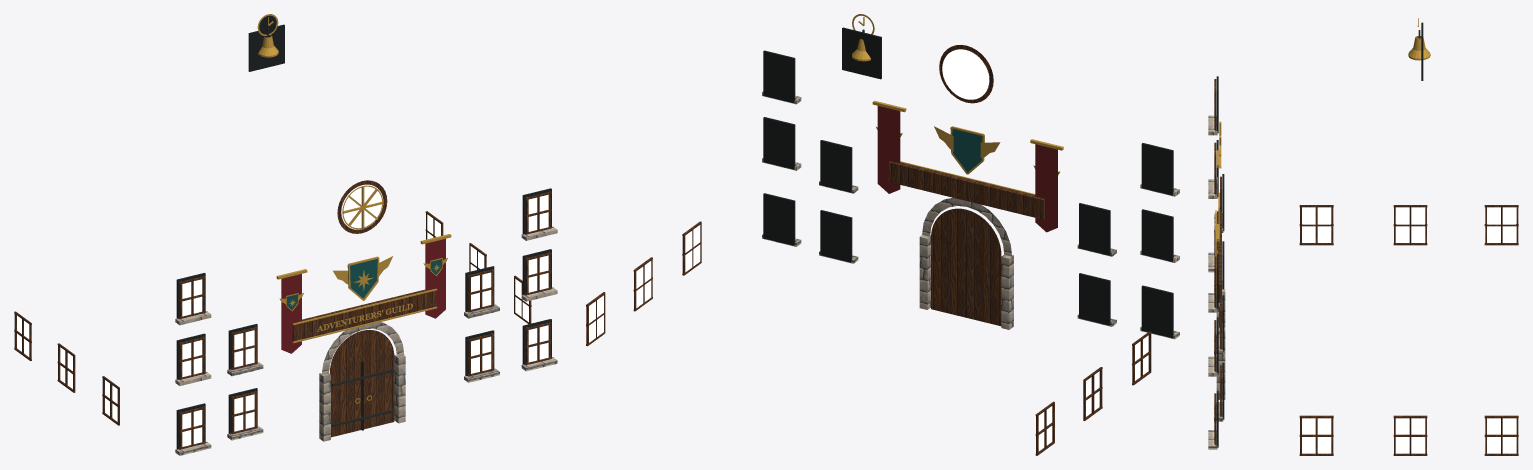
Rendered from SM_GuildHall_Ornaments.fbx.
3 views of the same model, side by side, from view 1: azimuth 30°, elevation 25°; view 2: azimuth 150°, elevation 25°; view 3: azimuth 270°, elevation 25° (orthographic). The views are drawn at different scales.
Visible parts, largest first — view 1: ArchedDoubleDoor, GuildSign_1, HangingBanner, HangingBanner.001, RoseGlass, BellOpening_1, GuildCrest_Shield, TowerWindow_Glow_1.001, TowerWindow_Glow_1.003, WingWindow_Glow_1, TowerWindow_Glow_1.005, WingWindow_Glow_1.001 (+5 smaller); view 2: ArchedDoubleDoor, GuildSign_3, RoseGlass, HangingBanner.001, HangingBanner, TowerWindow_Recess_3.001, TowerWindow_Recess_3.002, TowerWindow_Recess_3, BellOpening_3, TowerWindow_Recess_3.005, WingWindow_Recess_3.001, TowerWindow_Recess_3.004 (+7 smaller); view 3: SideWindow.001, SideWindow, SideWindow.002, SideWindow.004, SideWindow.003, SideWindow.005, DoorJamb_2.001.
Part boxes in pixels (x1,y1,x2,y2): ArchedDoubleDoor: (330, 330, 394, 437); GuildSign_1: (293, 290, 435, 341); HangingBanner: (281, 274, 301, 353); HangingBanner.001: (425, 238, 445, 318); RoseGlass: (341, 184, 383, 229); BellOpening_1: (249, 25, 284, 71); GuildCrest_Shield: (350, 259, 376, 298); TowerWindow_Glow_1.001: (182, 340, 202, 377); TowerWindow_Glow_1.003: (528, 325, 548, 362); WingWindow_Glow_1: (234, 394, 254, 431); TowerWindow_Glow_1.005: (528, 194, 548, 231); WingWindow_Glow_1.001: (234, 330, 254, 367); ArchedDoubleDoor: (931, 208, 1001, 326); GuildSign_3: (888, 162, 1043, 219); RoseGlass: (942, 49, 989, 99); HangingBanner.001: (877, 106, 900, 193); HangingBanner: (1035, 144, 1057, 232); TowerWindow_Recess_3.001: (1141, 210, 1172, 261); TowerWindow_Recess_3.002: (1141, 143, 1172, 195); TowerWindow_Recess_3: (1141, 286, 1172, 338); BellOpening_3: (842, 28, 880, 79); TowerWindow_Recess_3.005: (763, 51, 793, 102); WingWindow_Recess_3.001: (1079, 204, 1109, 255); TowerWindow_Recess_3.004: (763, 117, 793, 169); SideWindow.001: (1396, 207, 1424, 242); SideWindow: (1302, 207, 1330, 242); SideWindow.002: (1487, 207, 1515, 242); SideWindow.004: (1396, 418, 1424, 453); SideWindow.003: (1302, 418, 1330, 453); SideWindow.005: (1487, 418, 1515, 453); DoorJamb_2.001: (1216, 331, 1225, 399).
Bounding box in the file's own units: 1920 × 1191 × 1540.
8 materials, 2 textured.
